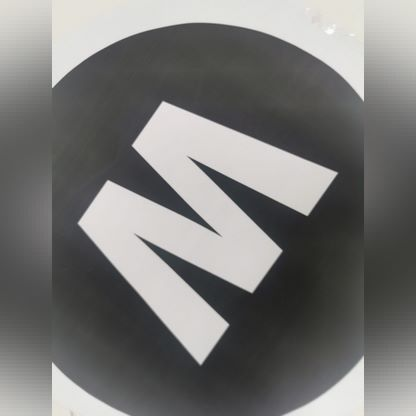W: (46, 40, 387, 392)
